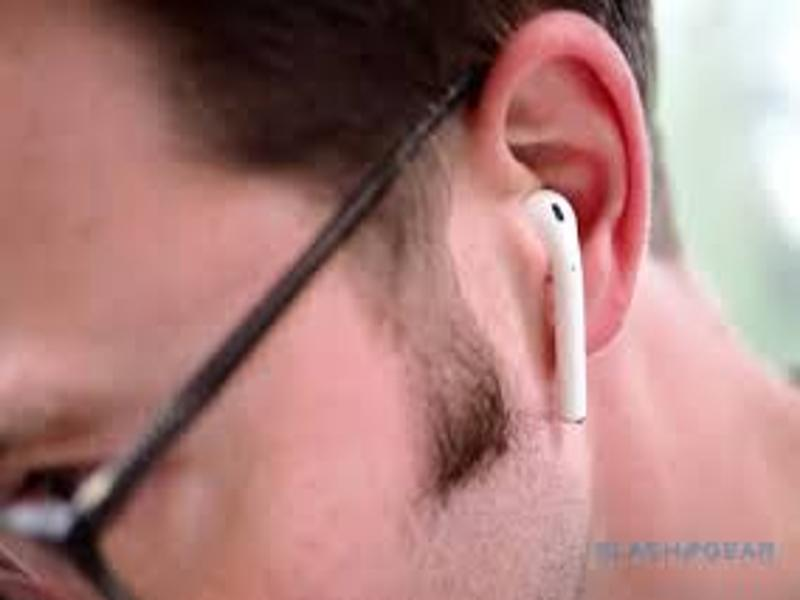headphone: (510, 182, 595, 429)
